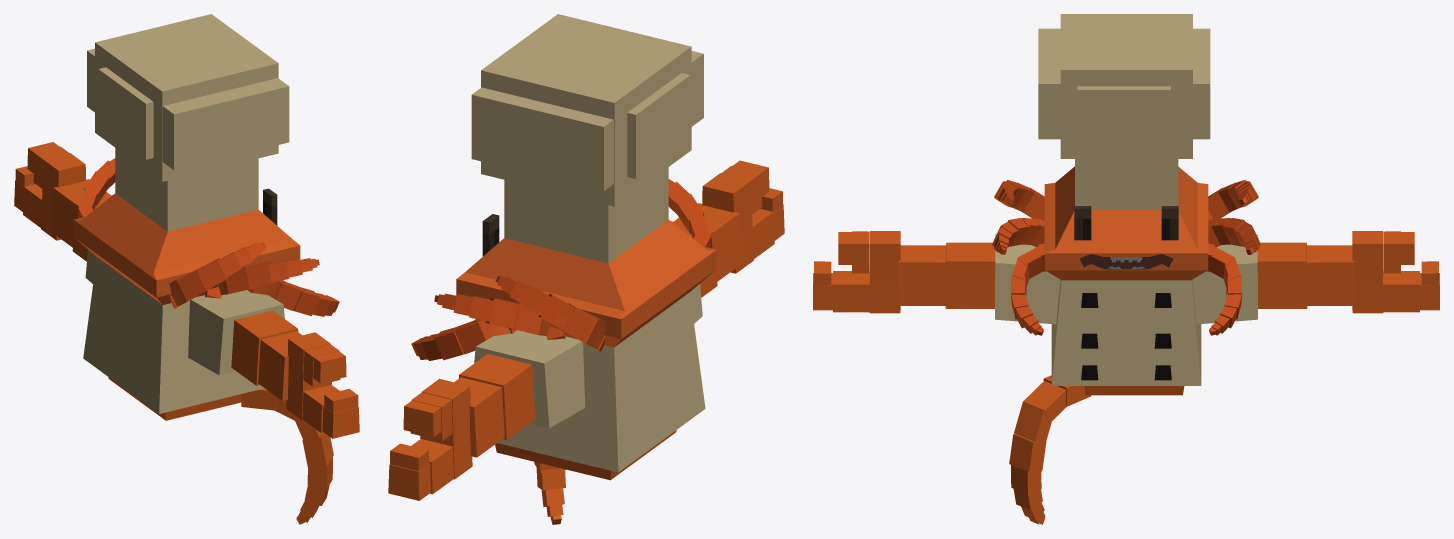
Rendered from Crab.fbx.
The picture shows the model from 3 angles, left to right: view 1: azimuth 30°, elevation 25°; view 2: azimuth 150°, elevation 25°; view 3: azimuth 270°, elevation 25°; orthographic projection. The views are drawn at different scales.
Parts seen in each view (by area): view 1: ShefCrab, ShefCrab.006, ShefCrab.003, ShefCrab.007, ShefCrab.004, ShefCrab.005, ShefCrab.001; view 2: ShefCrab, ShefCrab.003, ShefCrab.006, ShefCrab.002, ShefCrab.001, ShefCrab.005, ShefCrab.007; view 3: ShefCrab, ShefCrab.006, ShefCrab.003, ShefCrab.007, ShefCrab.004, ShefCrab.002, ShefCrab.001, ShefCrab.005.
Boxes of the visible parts, x1,y1,x2,y2 form: ShefCrab: (73,14,339,420); ShefCrab.006: (282,332,359,438); ShefCrab.003: (14,142,85,240); ShefCrab.007: (241,388,333,524); ShefCrab.004: (231,310,297,385); ShefCrab.005: (258,331,301,400); ShefCrab.001: (50,179,110,247); ShefCrab: (411,14,716,480); ShefCrab.003: (388,379,476,500); ShefCrab.006: (702,160,784,273); ShefCrab.002: (459,354,535,439); ShefCrab.001: (454,377,504,457); ShefCrab.005: (673,203,743,281); ShefCrab.007: (534,462,566,524); ShefCrab: (945,14,1307,395); ShefCrab.006: (813,231,900,313); ShefCrab.003: (1352,231,1439,313); ShefCrab.007: (1009,375,1091,524); ShefCrab.004: (945,242,995,308); ShefCrab.002: (1257,242,1307,308); ShefCrab.001: (1307,245,1354,305); ShefCrab.005: (898,245,945,305).
Size of the model in its own units: 314 by 762 by 966.
